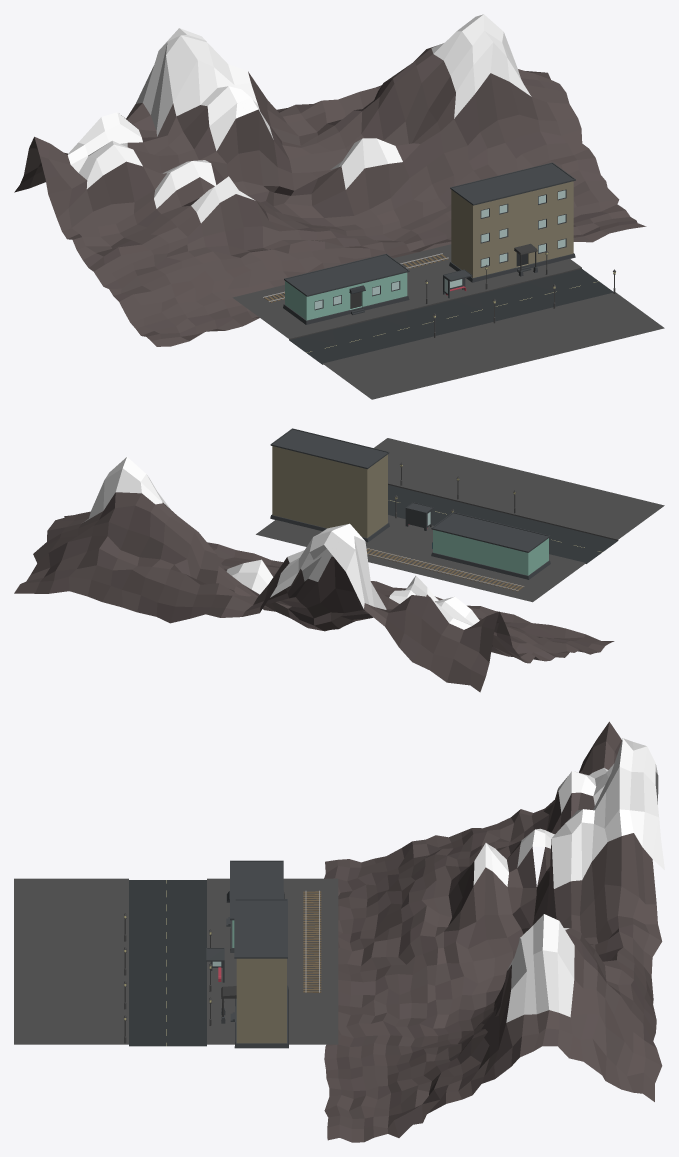
The model's file is CenaTrabalho.FBX.
The picture shows the model from 3 angles, top to bottom: view 1: azimuth 30°, elevation 25°; view 2: azimuth 150°, elevation 25°; view 3: azimuth 270°, elevation 25°; orthographic projection. The views are drawn at different scales.
Parts seen in each view (by area): view 1: Object001, Rua, Casa02, Casa01; view 2: Object001, Rua, Casa02, Casa01, Trilhos, PontoOnibus; view 3: Object001, Rua, Casa02, Casa01, Trilhos.
Boxes of the visible parts, x1=… form: Object001: x1=14, y1=14, x2=646, y2=346; Rua: x1=232, y1=244, x2=664, y2=399; Casa02: x1=449, y1=162, x2=575, y2=282; Casa01: x1=283, y1=253, x2=409, y2=324; Object001: x1=14, y1=457, x2=614, y2=692; Rua: x1=256, y1=438, x2=664, y2=602; Casa02: x1=270, y1=428, x2=389, y2=542; Casa01: x1=431, y1=512, x2=550, y2=579; Trilhos: x1=366, y1=548, x2=524, y2=591; PontoOnibus: x1=405, y1=502, x2=433, y2=530; Object001: x1=324, y1=721, x2=664, y2=1142; Rua: x1=14, y1=878, x2=338, y2=1046; Casa02: x1=221, y1=899, x2=288, y2=1048; Casa01: x1=226, y1=860, x2=284, y2=952; Trilhos: x1=303, y1=890, x2=321, y2=992.
Size of the model in its own units: 2473 by 879 by 2420.
